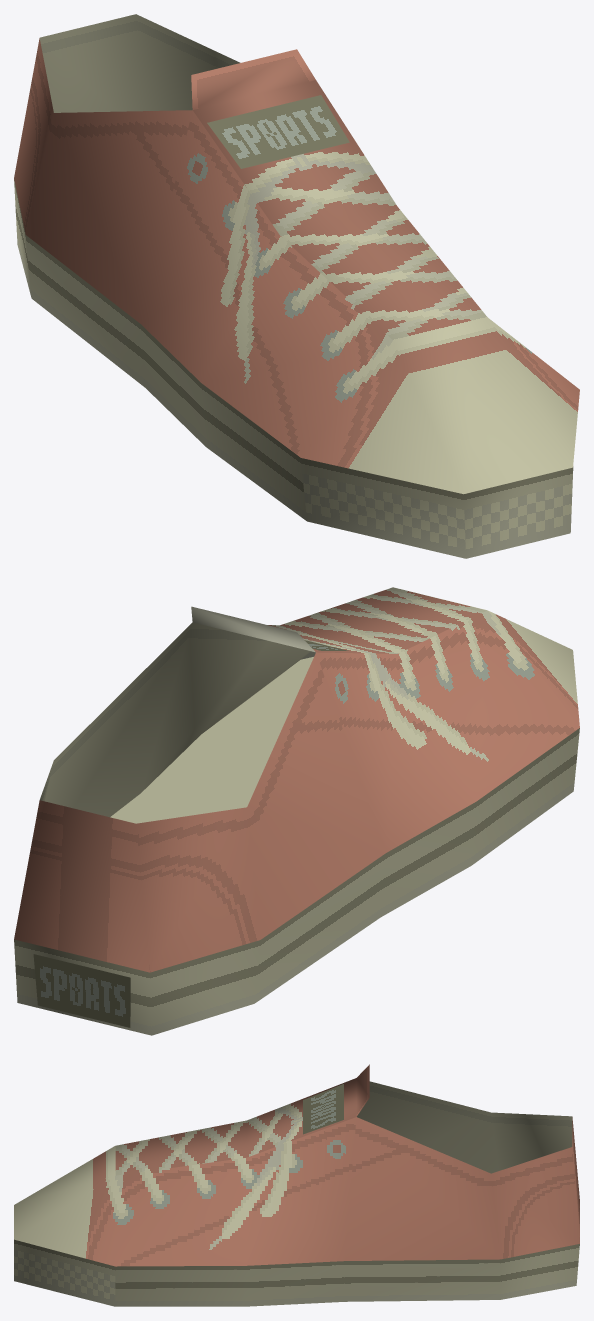
The model's file is 01a1_Sneaker.glb.
3 views of the same model, one above another, from view 1: azimuth 30°, elevation 25°; view 2: azimuth 150°, elevation 25°; view 3: azimuth 270°, elevation 25° (orthographic). The views are drawn at different scales.
Visible parts, largest first — view 1: part_0; view 2: part_0; view 3: part_0.
Part boxes in pixels (box(x1,y1,x2,y2)): part_0: box(14, 14, 579, 558); part_0: box(14, 587, 579, 1035); part_0: box(14, 1064, 579, 1306).
Size of the model in its own units: 0.1102 by 0.1068 by 0.2983.
Materials: 1 (1 with a texture image).
